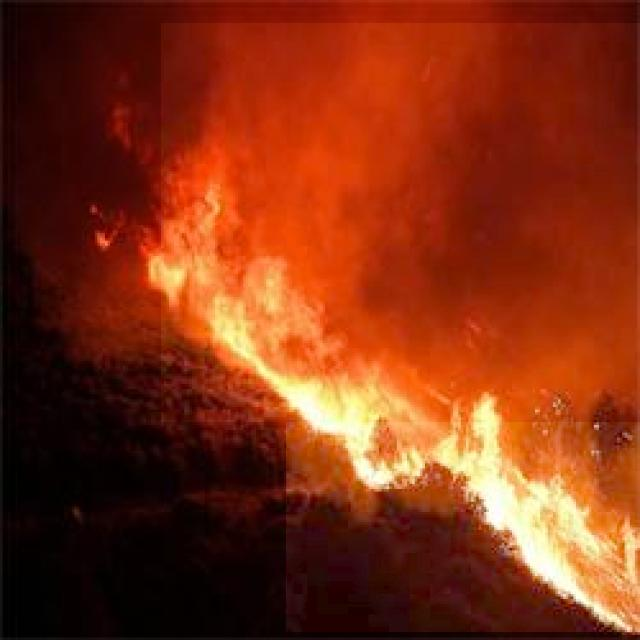Fire: (286, 373, 640, 632)
Smoke: (161, 23, 640, 422)
